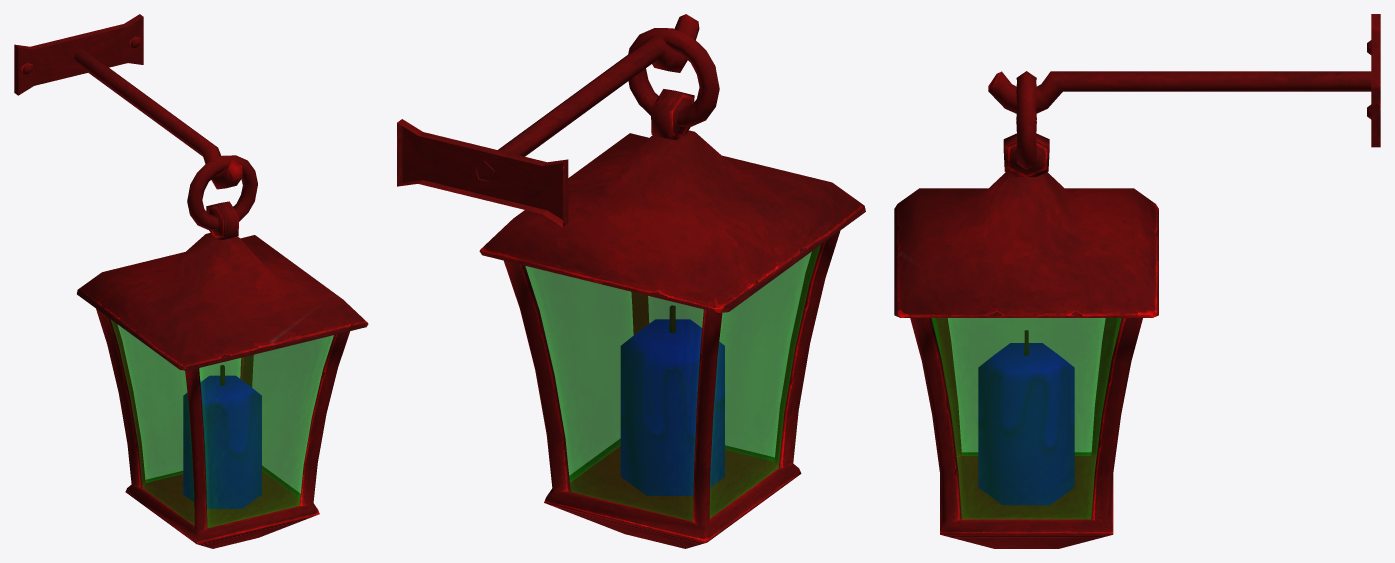
The model's file is Lantern01.fbx.
3 views of the same model, side by side, from view 1: azimuth 30°, elevation 25°; view 2: azimuth 150°, elevation 25°; view 3: azimuth 270°, elevation 25° (orthographic). The views are drawn at different scales.
Parts seen in each view (by area): view 1: Lantern01_LOD0; view 2: Lantern01_LOD0; view 3: Lantern01_LOD0.
Boxes of the visible parts, x1,y1,x2,y2 form: Lantern01_LOD0: (14,14,368,548); Lantern01_LOD0: (397,14,865,548); Lantern01_LOD0: (894,14,1380,548).
Size of what is drawn, in the model's own units: 0.1754 by 0.3539 by 0.3222.
